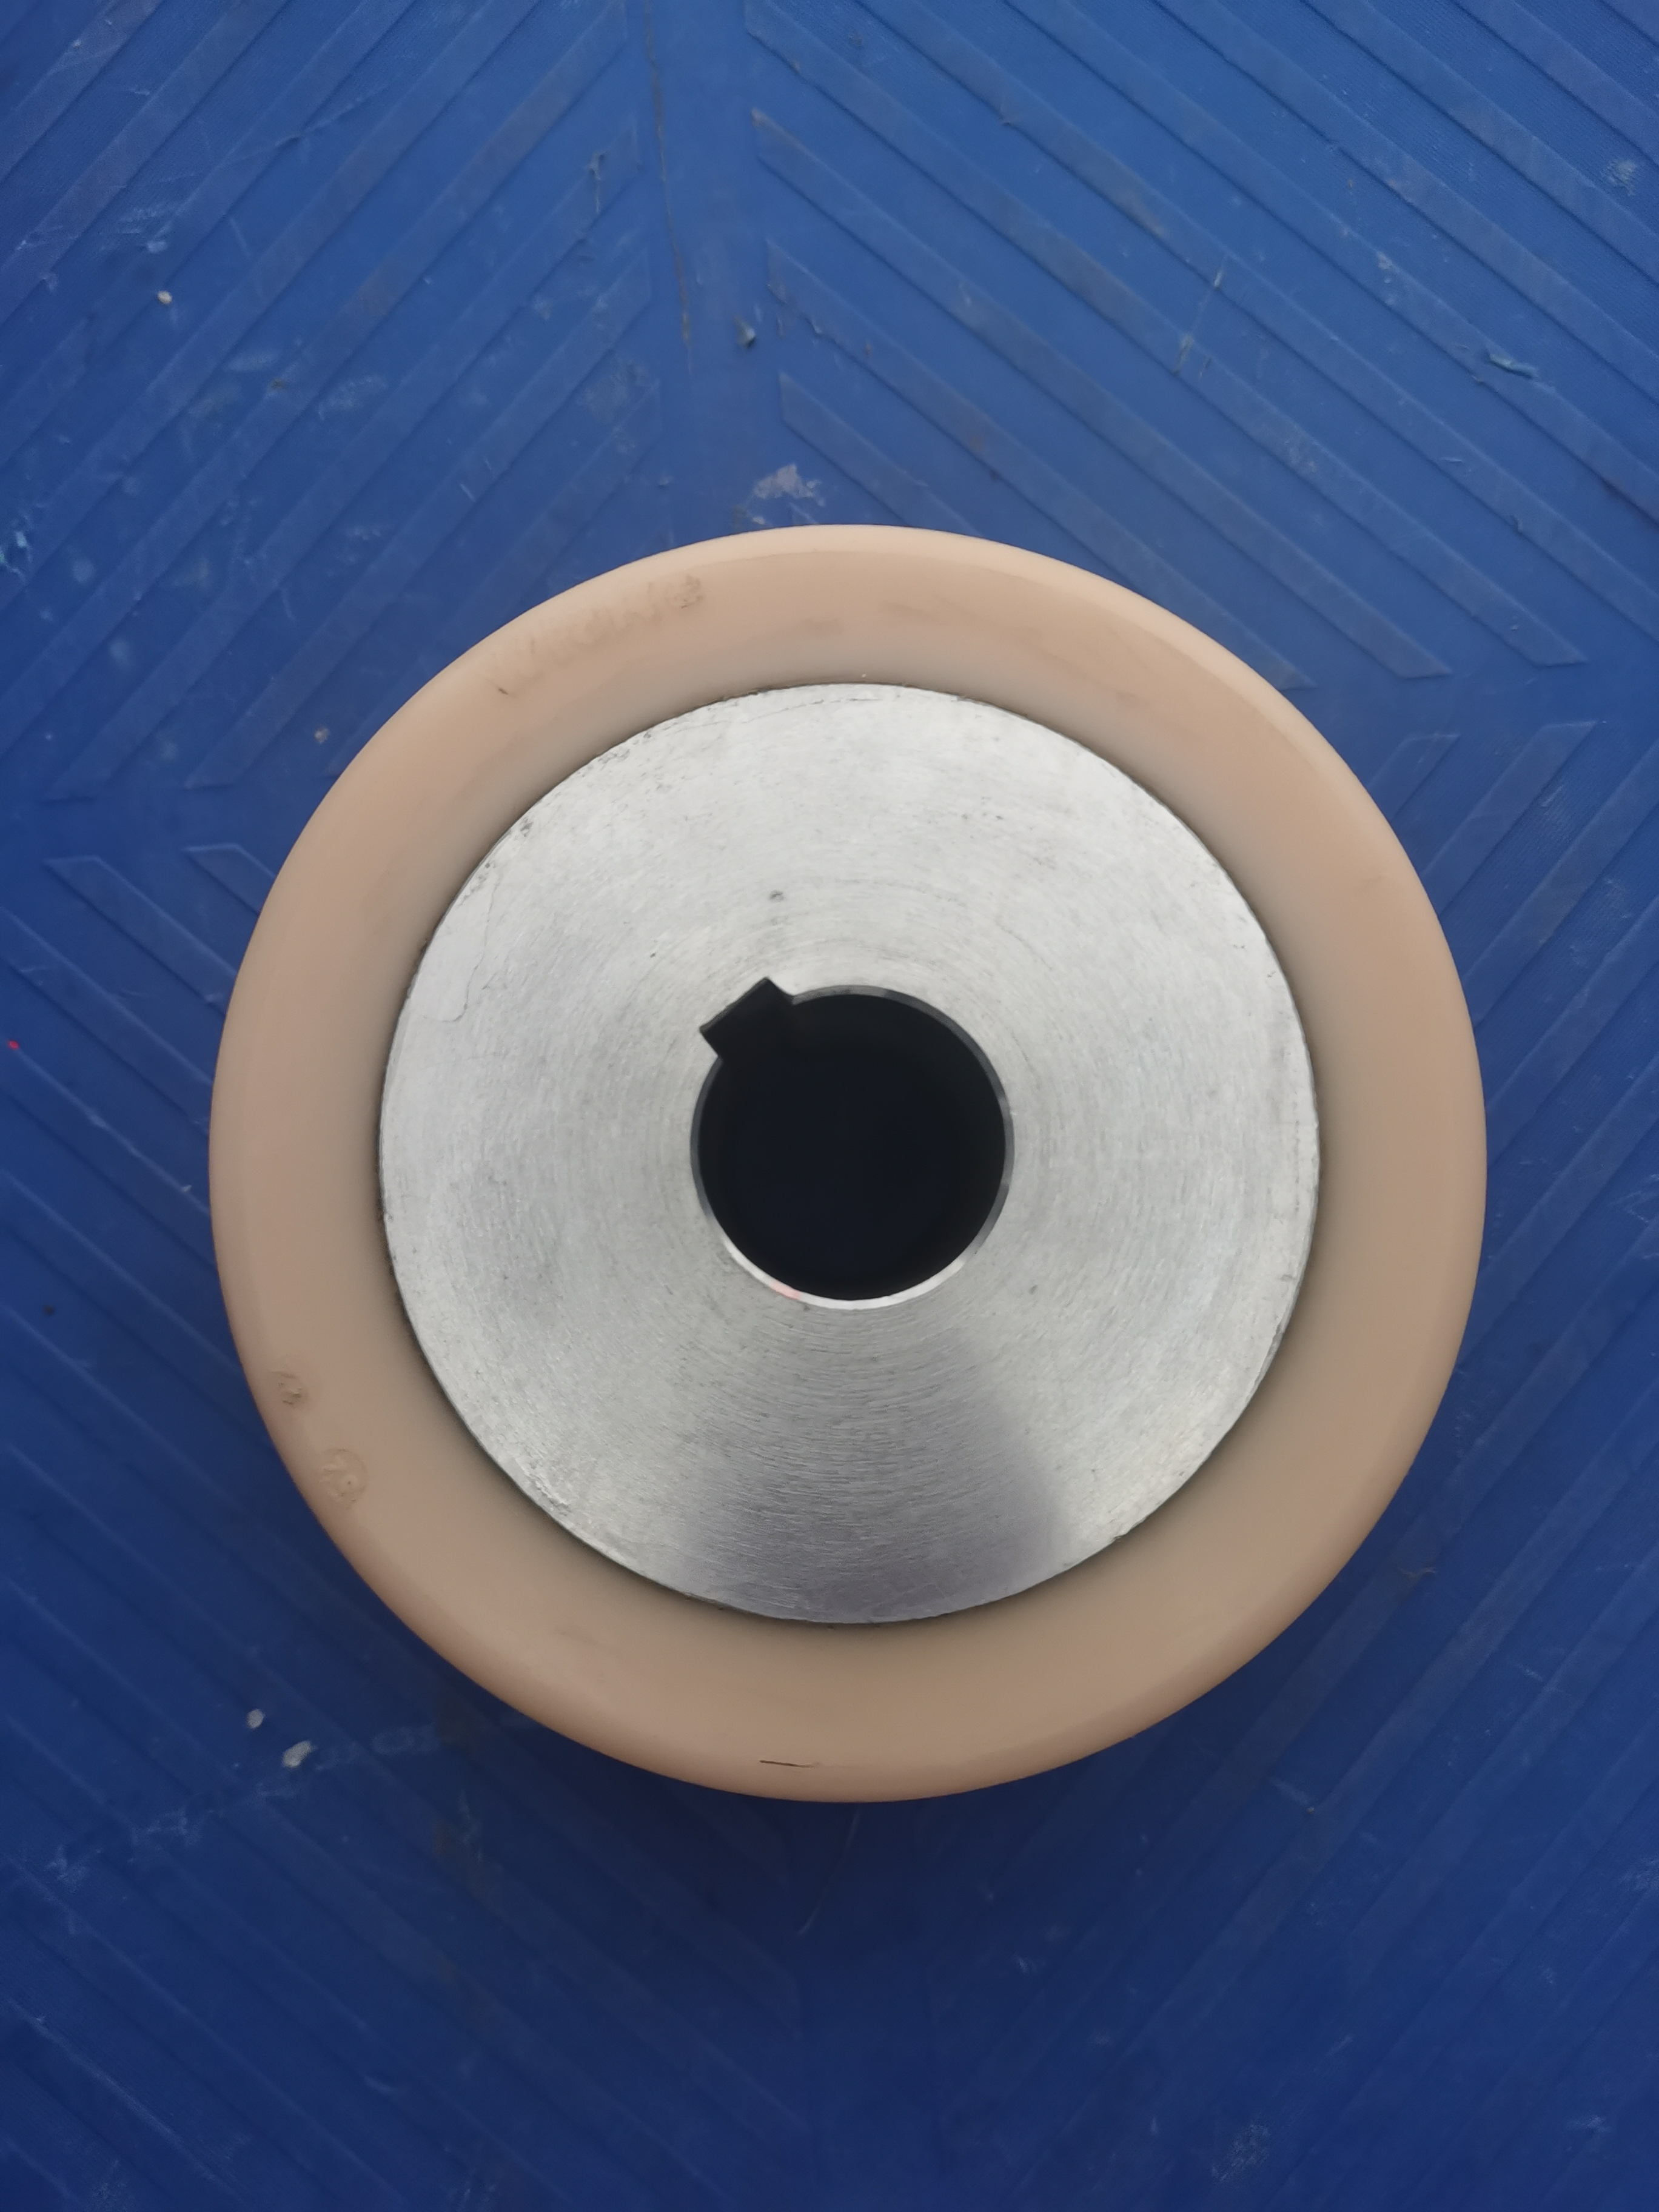good_wheel: (185, 451, 1467, 1811)
